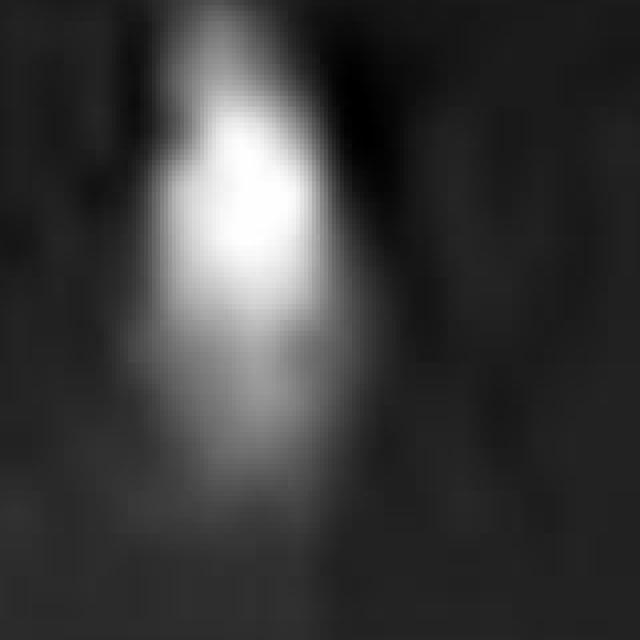person: (121, 1, 361, 502)
